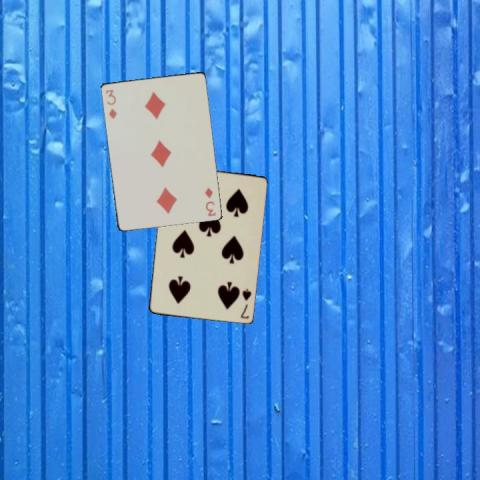3d: (102, 86, 118, 120), (202, 185, 217, 217)
7s: (237, 285, 253, 320)
